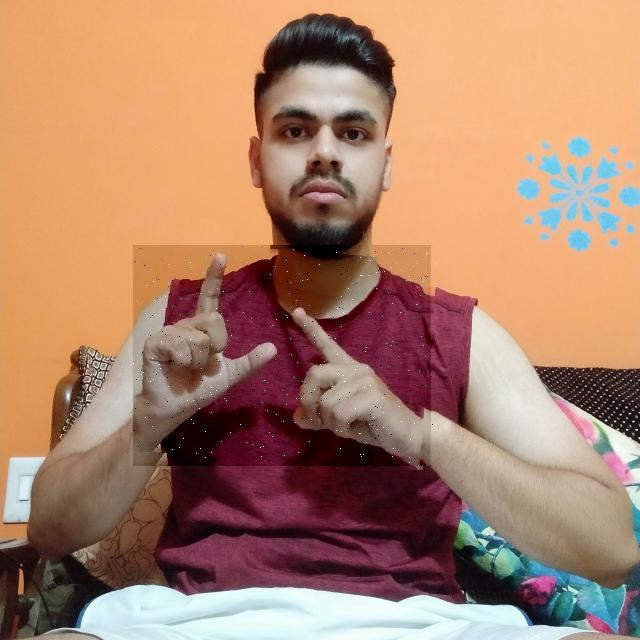J: (134, 245, 434, 466)
